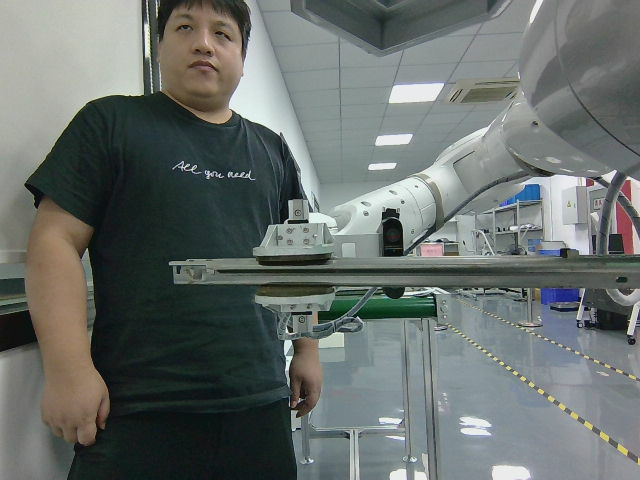up: (169, 256, 636, 288)
